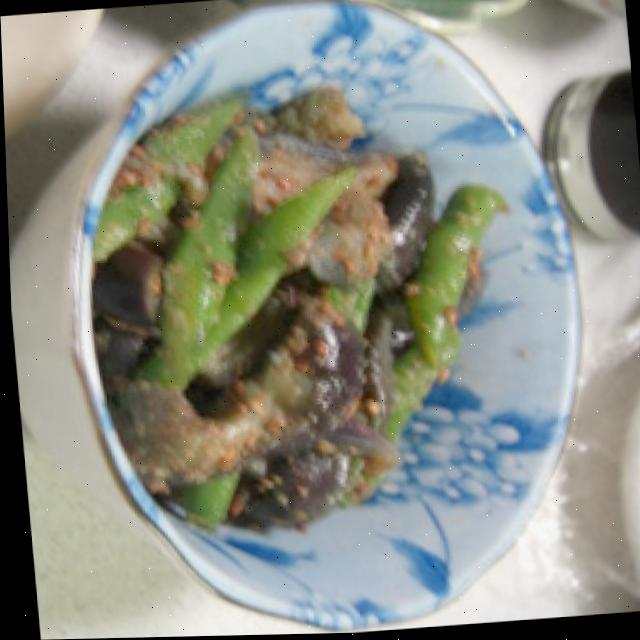鸡蛋料理: (8, 42, 497, 596)
